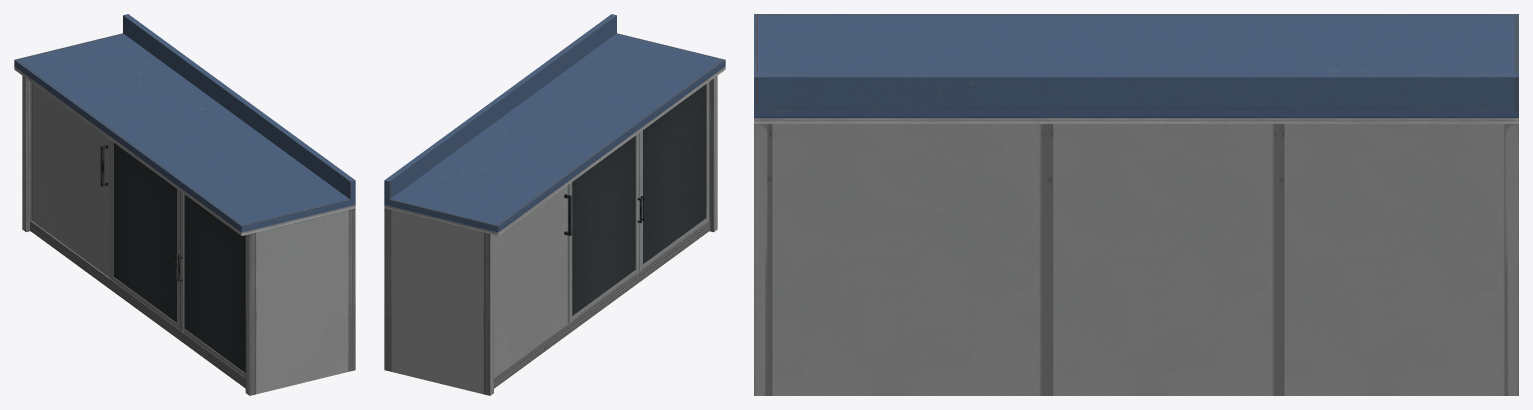
The model's file is HH_ Base_Cabinet_2m_02.fbx.
The picture shows the model from 3 angles, left to right: view 1: azimuth 30°, elevation 25°; view 2: azimuth 150°, elevation 25°; view 3: azimuth 270°, elevation 25°; orthographic projection. The views are drawn at different scales.
Parts seen in each view (by area): view 1: HH_ Base_Cabinet_2m_02, HH_ Base_Cabinet_Door_01, HH_ Base_Cabinet_Door_02; view 2: HH_ Base_Cabinet_2m_02, HH_ Base_Cabinet_Door_01, HH_ Base_Cabinet_Door_02; view 3: HH_ Base_Cabinet_2m_02.
Boxes of the visible parts, x1,y1,x2,y2 form: HH_ Base_Cabinet_2m_02: (14,14,355,395); HH_ Base_Cabinet_Door_01: (110,140,180,329); HH_ Base_Cabinet_Door_02: (178,191,245,377); HH_ Base_Cabinet_2m_02: (384,14,725,395); HH_ Base_Cabinet_Door_01: (568,133,641,322); HH_ Base_Cabinet_Door_02: (639,82,709,271); HH_ Base_Cabinet_2m_02: (754,14,1518,395).
Bounding box in the file's own units: 57.9 × 91.95 × 200.
